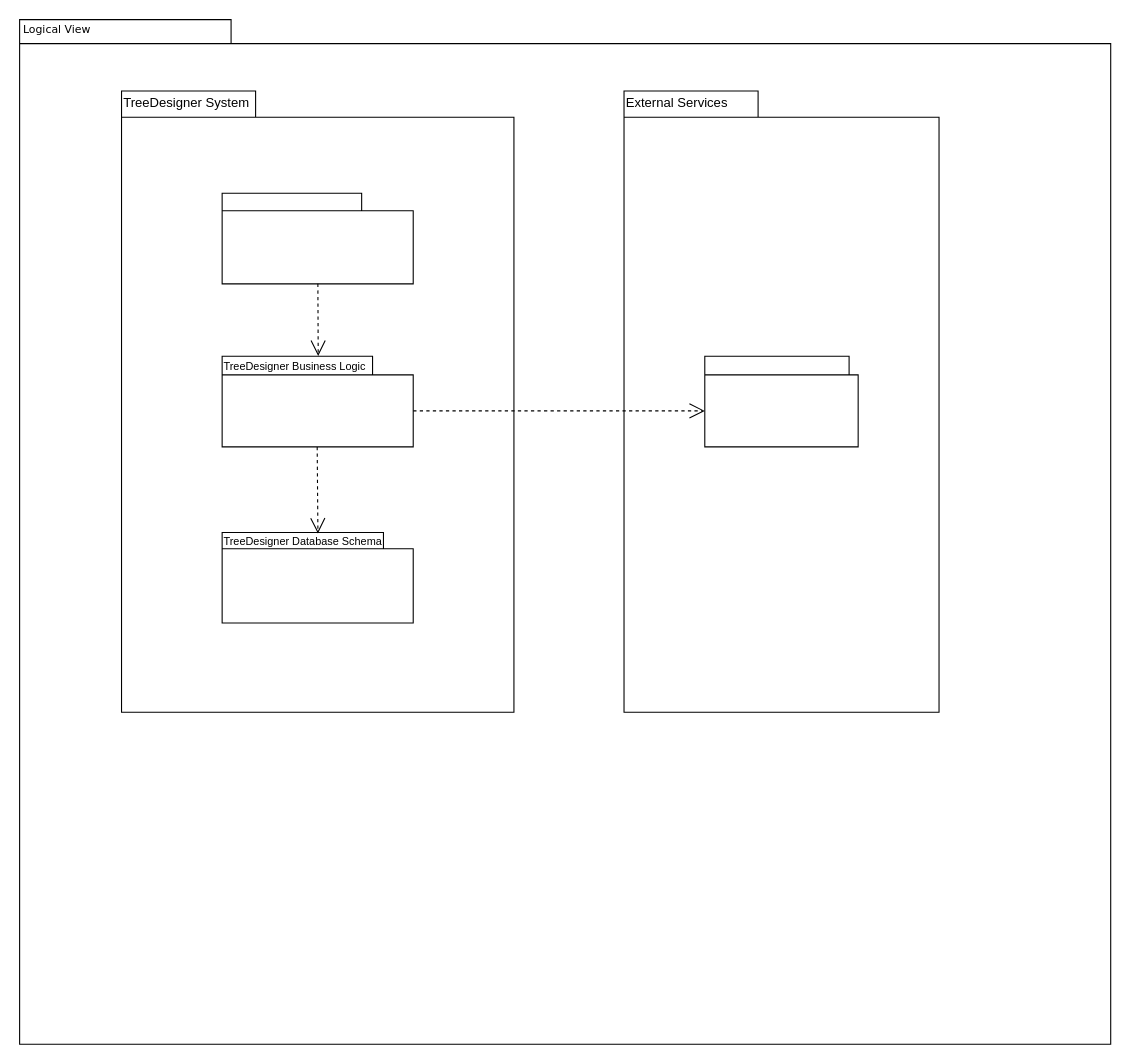
Some shapes in this 1129 by 1063 pixel diagram are drawn without their labels. Each missing label, with the box of its shape:
Google Account: (704, 355, 858, 447)
TreeDesigner UI: (221, 192, 413, 284)
